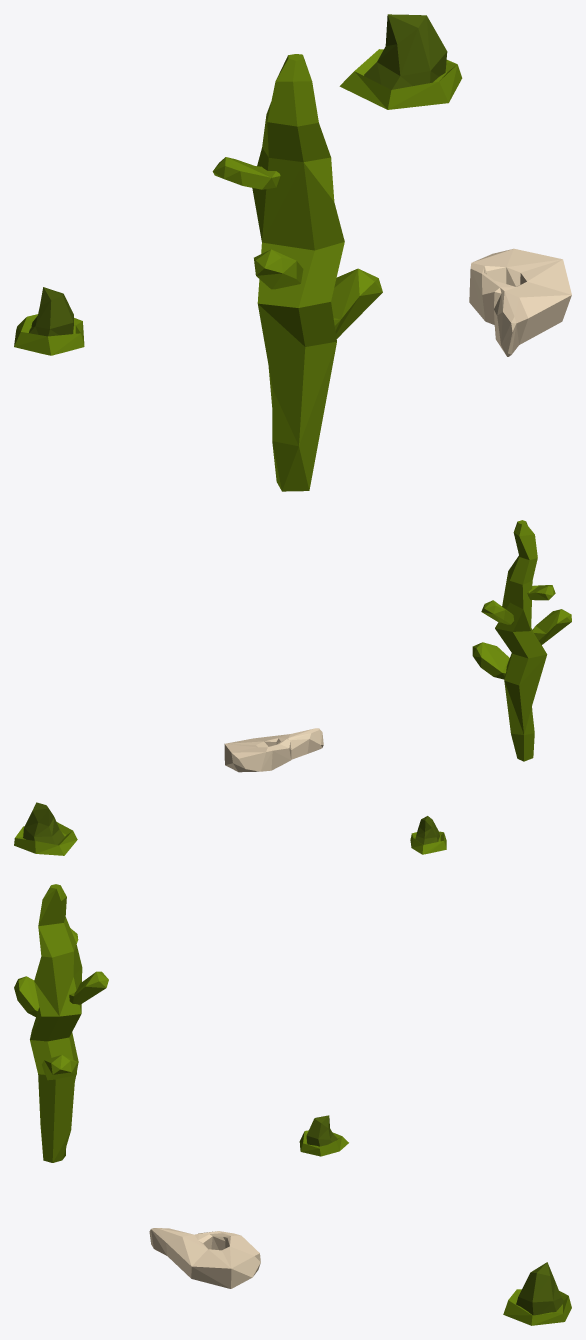
Rendered from desert_assets_4.glb.
3 renders of one model, top to bottom at view 1: azimuth 30°, elevation 25°; view 2: azimuth 150°, elevation 25°; view 3: azimuth 270°, elevation 25°, orthographic. The views are drawn at different scales.
Visible parts, largest first — view 1: Cylinder1142_Color_0, Creature_73_Color_0, Cylinder1121_Color_0, Cylinder1140_Color_0; view 2: Cylinder1142_Color_0, Creature_73_Color_0, Cylinder1121_Color_0, Cylinder1140_Color_0; view 3: Cylinder1142_Color_0, Creature_73_Color_0, Cylinder1121_Color_0, Cylinder1140_Color_0.
Boxes of the visible parts, x1=… form: Cylinder1142_Color_0: x1=212, y1=54, x2=382, y2=491; Creature_73_Color_0: x1=469, y1=248, x2=571, y2=356; Cylinder1121_Color_0: x1=339, y1=14, x2=462, y2=109; Cylinder1140_Color_0: x1=14, y1=287, x2=84, y2=355; Cylinder1142_Color_0: x1=472, y1=520, x2=571, y2=761; Creature_73_Color_0: x1=224, y1=728, x2=323, y2=772; Cylinder1121_Color_0: x1=14, y1=802, x2=77, y2=855; Cylinder1140_Color_0: x1=410, y1=816, x2=446, y2=854; Cylinder1142_Color_0: x1=14, y1=884, x2=108, y2=1162; Creature_73_Color_0: x1=149, y1=1228, x2=260, y2=1288; Cylinder1121_Color_0: x1=503, y1=1262, x2=571, y2=1325; Cylinder1140_Color_0: x1=299, y1=1115, x2=348, y2=1156.
Bounding box in the file's own units: 2.12 × 1.44 × 2.62.
Materials: 1 (1 with a texture image).
